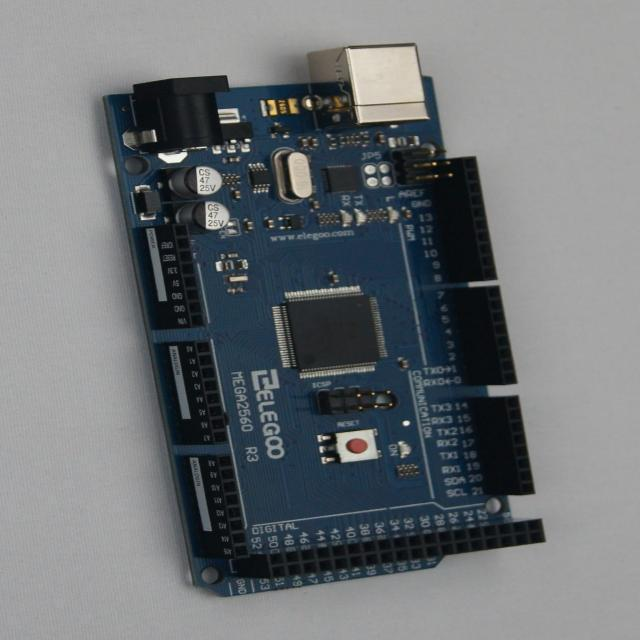Arduino Mega 2560 -Blue-: (106, 45, 545, 595)
